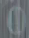Two way: (2, 4, 28, 36)
